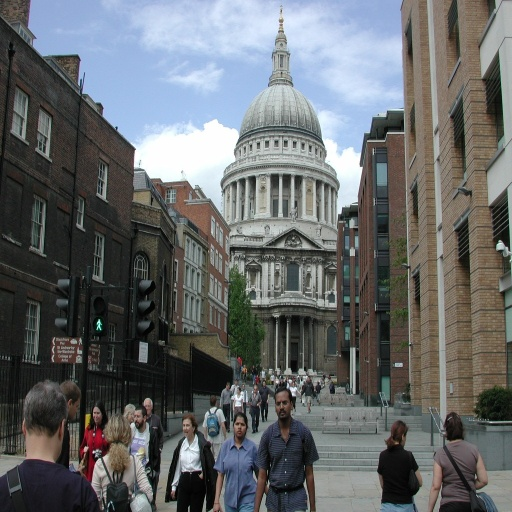hand: (77, 464, 85, 478), (212, 502, 222, 511), (172, 489, 175, 500)
